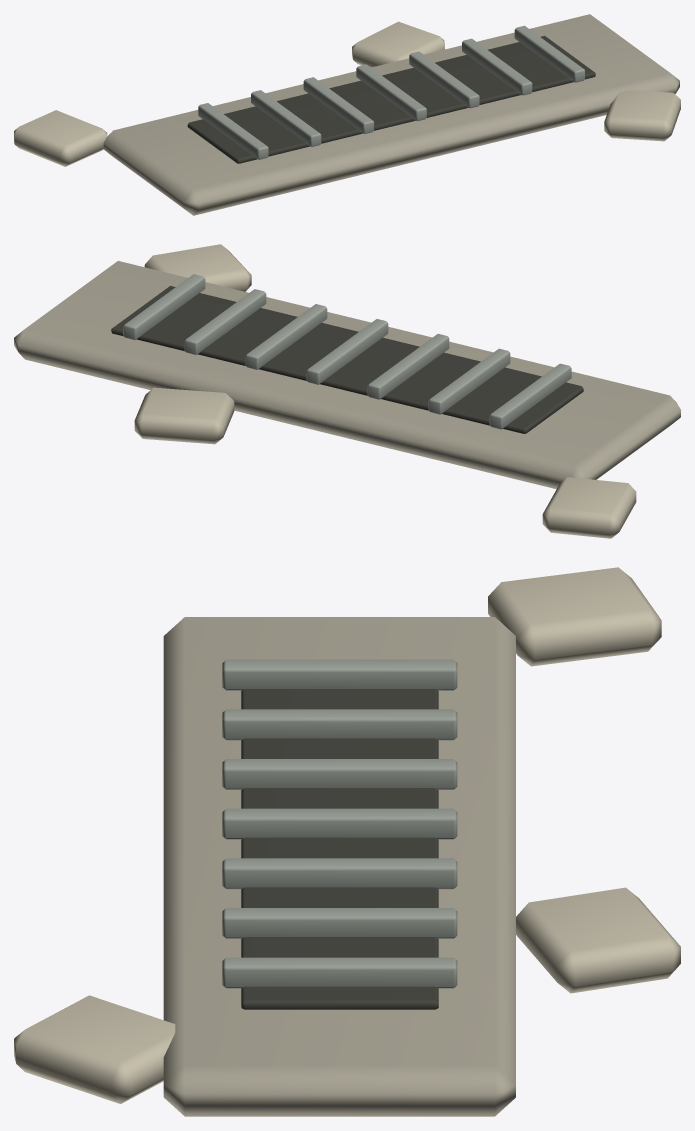
Rendered from DrainageRemnant.glb.
3 views of the same model, one above another, from view 1: azimuth 30°, elevation 25°; view 2: azimuth 150°, elevation 25°; view 3: azimuth 270°, elevation 25° (orthographic). The views are drawn at different scales.
Visible parts, largest first — view 1: Broken drain surround, Drain recess, Spalled pavement, Spalled pavement.001, Spalled pavement.002, Drain crossbar.006, Drain crossbar.002, Drain crossbar.004, Drain crossbar, Drain crossbar.001, Drain crossbar.005, Drain crossbar.003; view 2: Broken drain surround, Drain recess, Spalled pavement.002, Spalled pavement, Spalled pavement.001, Drain crossbar.005, Drain crossbar.006, Drain crossbar, Drain crossbar.002, Drain crossbar.001, Drain crossbar.003, Drain crossbar.004; view 3: Broken drain surround, Drain recess, Spalled pavement, Spalled pavement.002, Spalled pavement.001, Drain crossbar, Drain crossbar.003, Drain crossbar.001, Drain crossbar.004, Drain crossbar.006, Drain crossbar.005, Drain crossbar.002.
Boxes of the visible parts, x1,y1,x2,y2 form: Broken drain surround: (103,14,679,215); Drain recess: (187,35,595,163); Spalled pavement: (14,110,107,166); Spalled pavement.001: (604,90,680,141); Spalled pavement.002: (352,21,444,67); Drain crossbar.006: (514,25,585,82); Drain crossbar.002: (303,77,374,134); Drain crossbar.004: (409,51,479,108); Drain crossbar: (198,103,268,159); Drain crossbar.001: (251,90,321,147); Drain crossbar.005: (462,38,532,95); Drain crossbar.003: (356,64,426,121); Broken drain surround: (14,261,680,489); Drain recess: (111,286,583,433); Spalled pavement.002: (134,387,234,444); Spalled pavement: (542,477,636,538); Spalled pavement.001: (144,244,251,291); Drain crossbar.005: (184,289,266,355); Drain crossbar.006: (123,274,205,340); Drain crossbar: (489,363,571,429); Drain crossbar.002: (367,333,449,399); Drain crossbar.001: (428,348,510,414); Drain crossbar.003: (306,319,388,384); Drain crossbar.004: (245,304,327,369); Broken drain surround: (163,617,515,1116); Drain recess: (241,689,438,1009); Spalled pavement: (488,567,661,666); Spalled pavement.002: (516,887,680,993); Spalled pavement.001: (14,995,175,1103); Drain crossbar: (222,659,457,690); Drain crossbar.003: (222,808,457,839); Drain crossbar.001: (222,709,457,740); Drain crossbar.004: (222,858,457,889); Drain crossbar.006: (222,957,457,988); Drain crossbar.005: (222,908,457,938); Drain crossbar.002: (222,759,457,789).
Size of the model in its own units: 2.63 by 0.1875 by 1.42.
